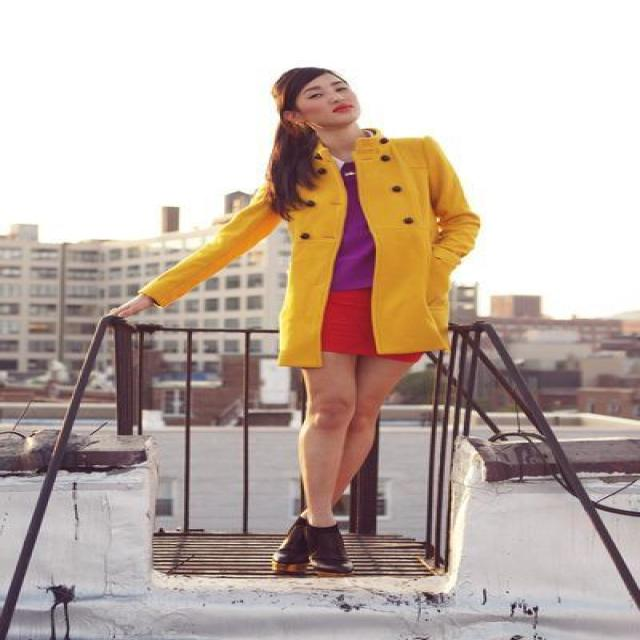jacket: (144, 128, 478, 368)
shirt: (330, 192, 374, 289)
shoe: (250, 525, 422, 577)
skirt: (320, 287, 402, 370)
